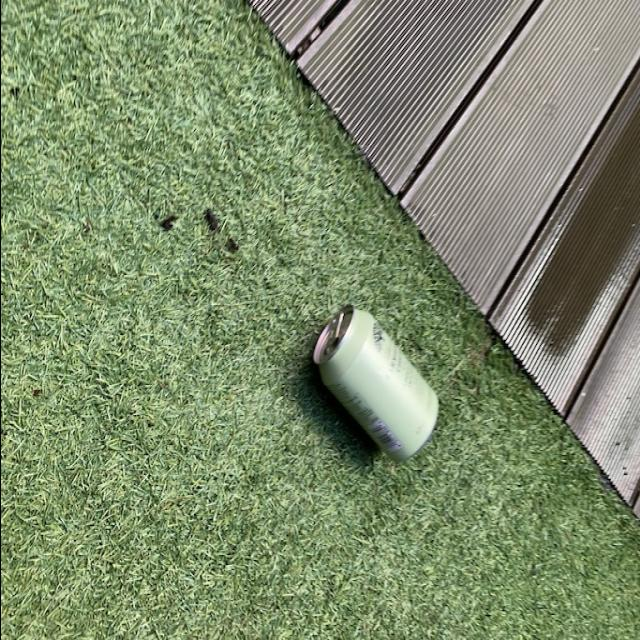litter: (297, 305, 443, 463)
